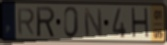0: (63, 5, 80, 39)
4: (111, 7, 128, 40)
H: (130, 6, 151, 41)
N: (82, 7, 104, 38)
R: (35, 6, 56, 39), (16, 7, 36, 36)
